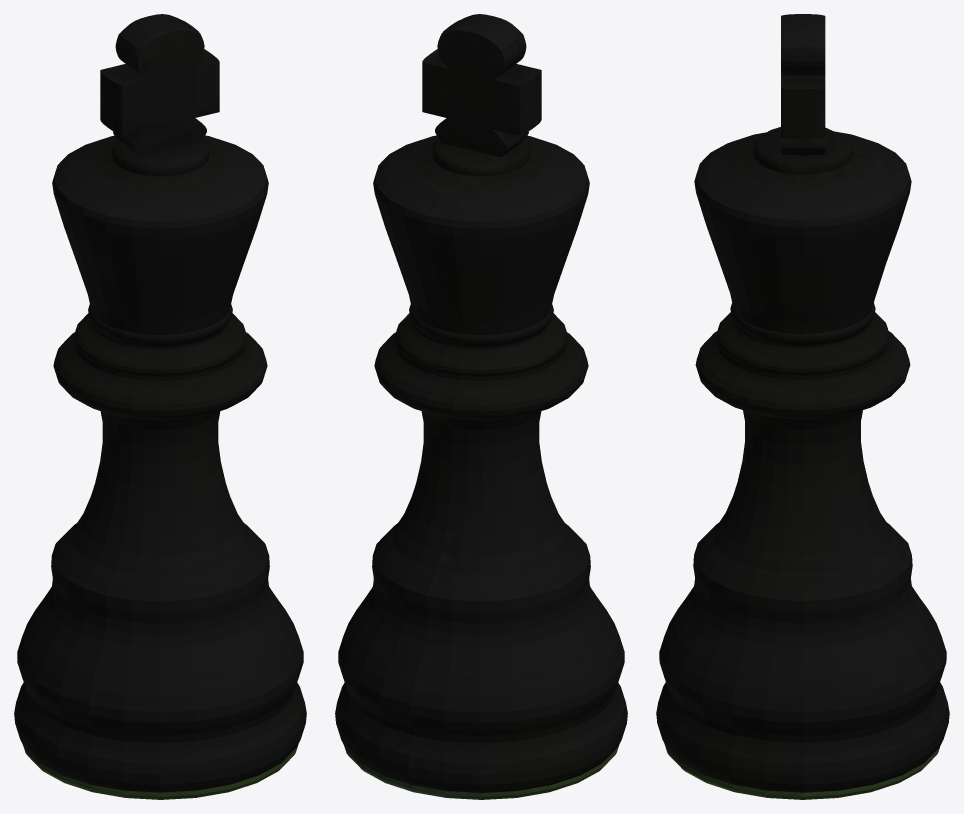
File: king.glb
The picture shows the model from 3 angles, left to right: view 1: azimuth 30°, elevation 25°; view 2: azimuth 150°, elevation 25°; view 3: azimuth 270°, elevation 25°; orthographic projection.
Visible parts, largest first — view 1: king.obj; view 2: king.obj; view 3: king.obj.
Part boxes in pixels (x1,y1,x2,y2): king.obj: (14, 14, 306, 799); king.obj: (335, 14, 627, 799); king.obj: (656, 14, 949, 799).
Size of the model in its own units: 0.3686 by 1 by 0.3686.
Materials: 1 (1 with a texture image).
